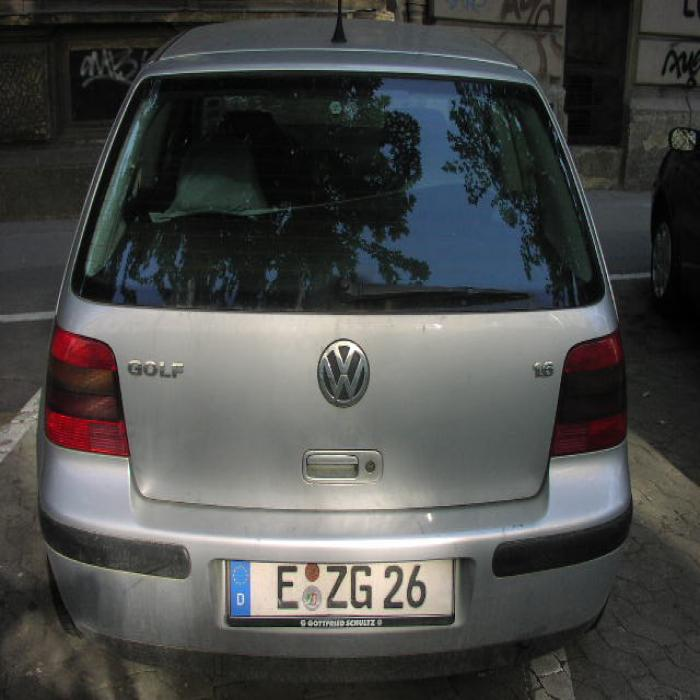number_plate: (224, 561, 452, 611)
